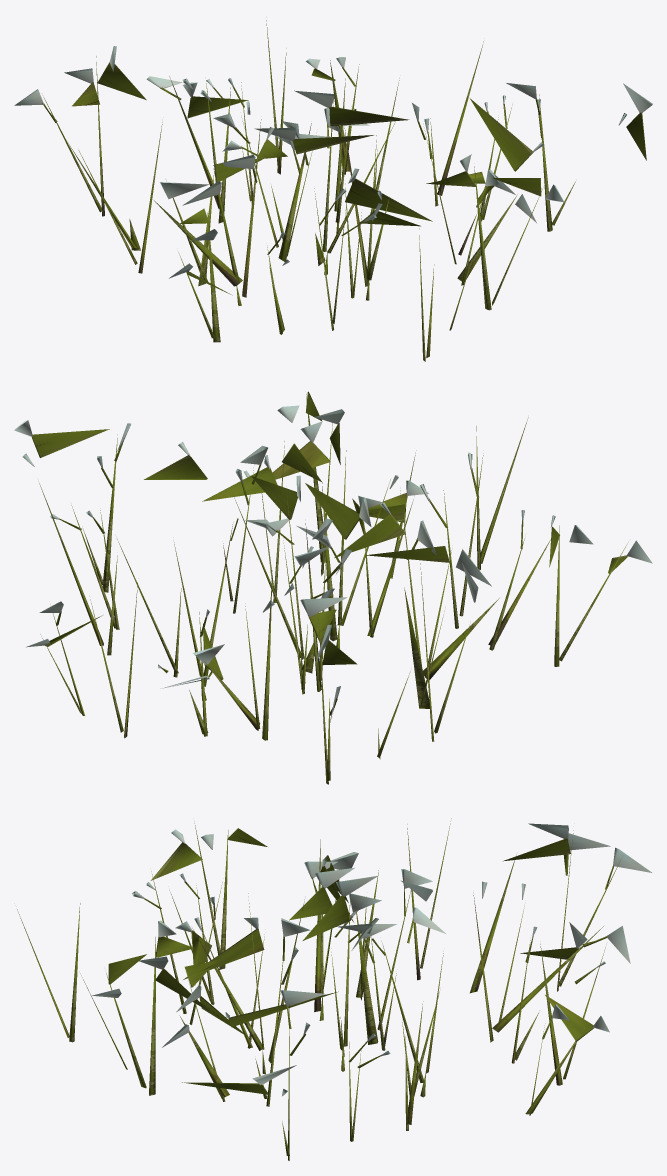
The model's file is cargo_shrub_b_far.glb.
The picture shows the model from 3 angles, top to bottom: view 1: azimuth 30°, elevation 25°; view 2: azimuth 150°, elevation 25°; view 3: azimuth 270°, elevation 25°; orthographic projection. The views are drawn at different scales.
Visible parts, largest first — view 1: KB3D_ENC_PropFlowers_B; view 2: KB3D_ENC_PropFlowers_B; view 3: KB3D_ENC_PropFlowers_B.
Part boxes in pixels (<box>): KB3D_ENC_PropFlowers_B: <box>14,20,652,361</box>; KB3D_ENC_PropFlowers_B: <box>14,391,652,784</box>; KB3D_ENC_PropFlowers_B: <box>17,818,651,1160</box>.
Bounding box in the file's own units: 1.33 × 0.4567 × 1.33.
2 materials, 2 textured.
